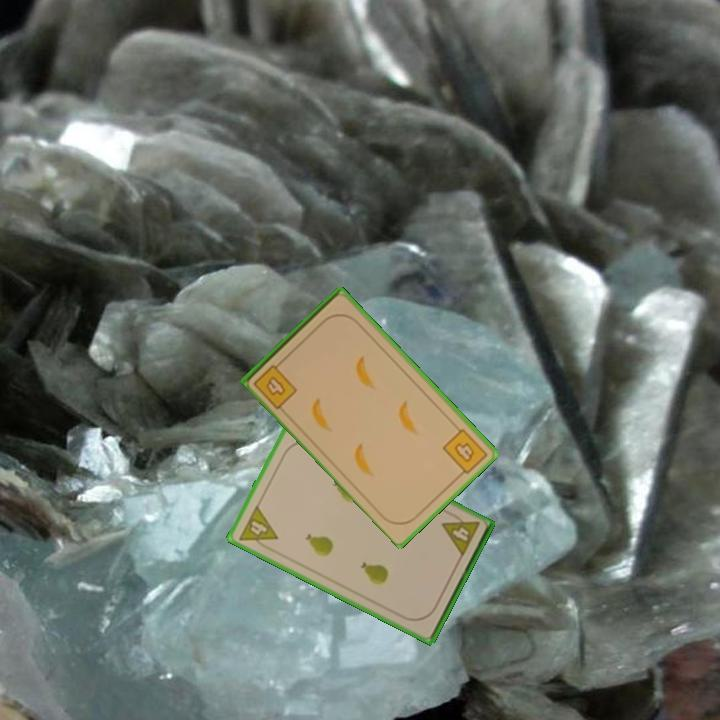4b: (439, 425, 490, 480), (250, 356, 300, 412)
4p: (235, 501, 281, 554), (438, 508, 482, 560)
